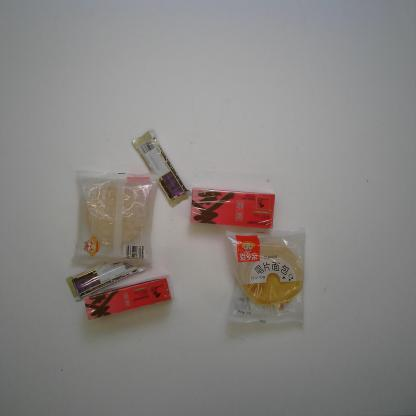Chocolate: (132, 130, 192, 206), (66, 257, 147, 303)
Dessert: (70, 169, 160, 267), (223, 226, 308, 325)
Instant Drink: (83, 274, 173, 321), (190, 187, 276, 229)
